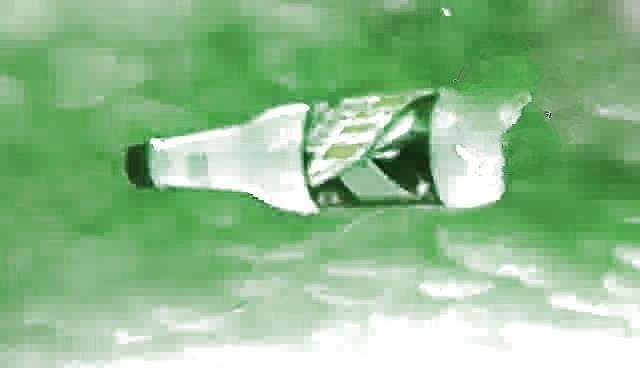Plastic: (121, 83, 540, 223)
